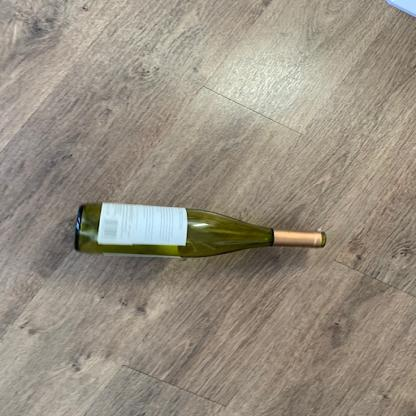trash: (75, 202, 330, 267)
